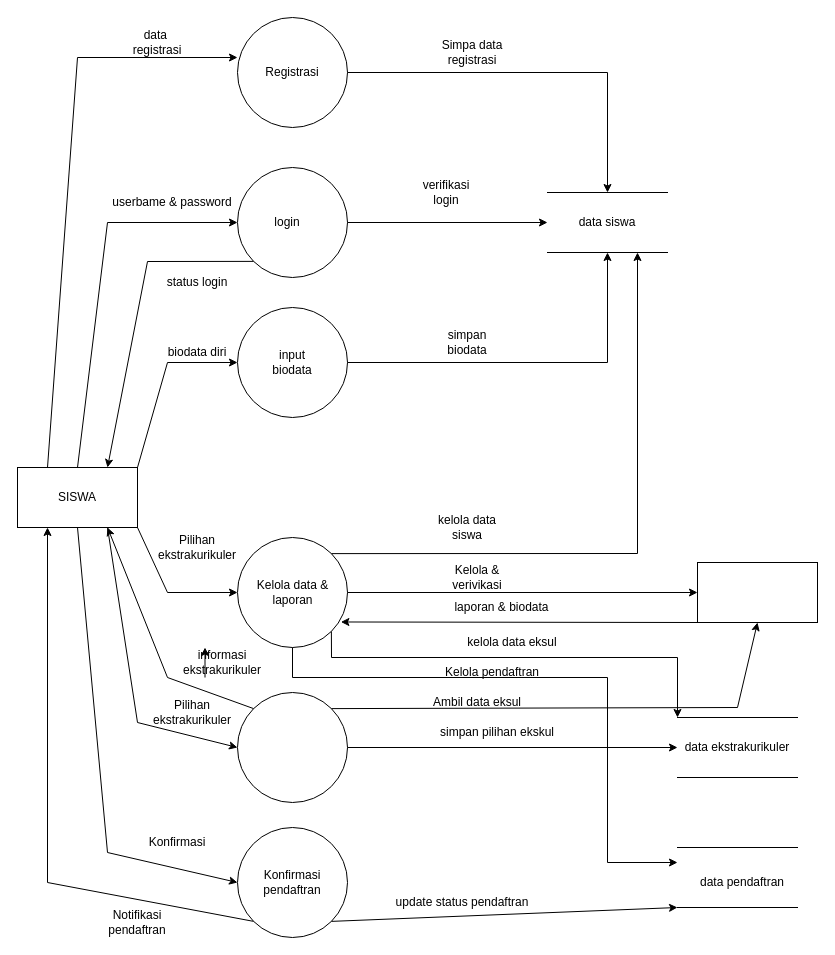
This 835x955 diagram has some shape labels left out. Each missing label, with the centre of its shape:
"admin sekolah" belongs at point (757, 592).
"pilih ekstrakurikuler" belongs at point (292, 747).
